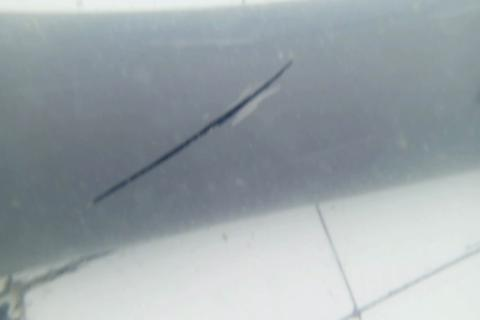keretakan: (94, 62, 293, 203)
